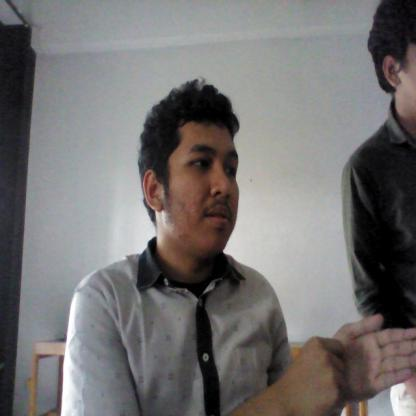Nama: (285, 295, 415, 416)
